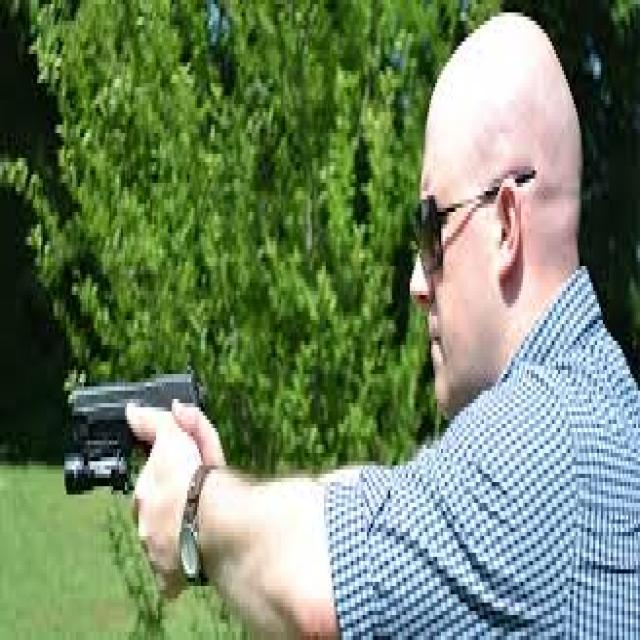weapons: (59, 344, 216, 550)
